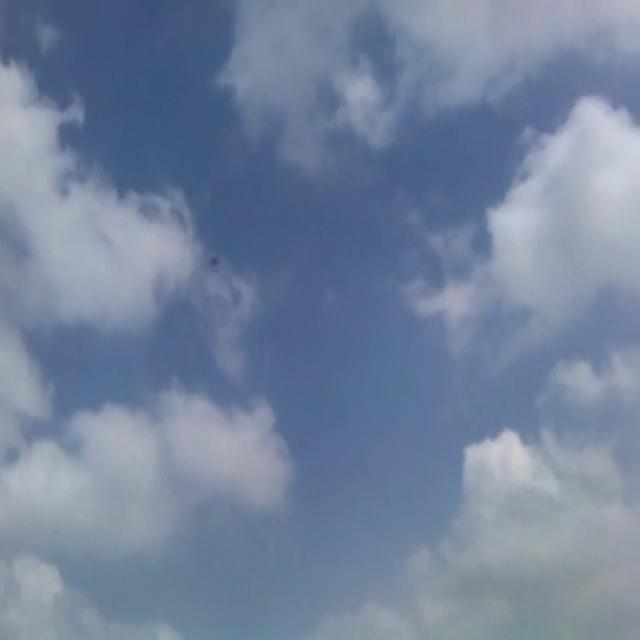drone: (207, 247, 220, 272)
